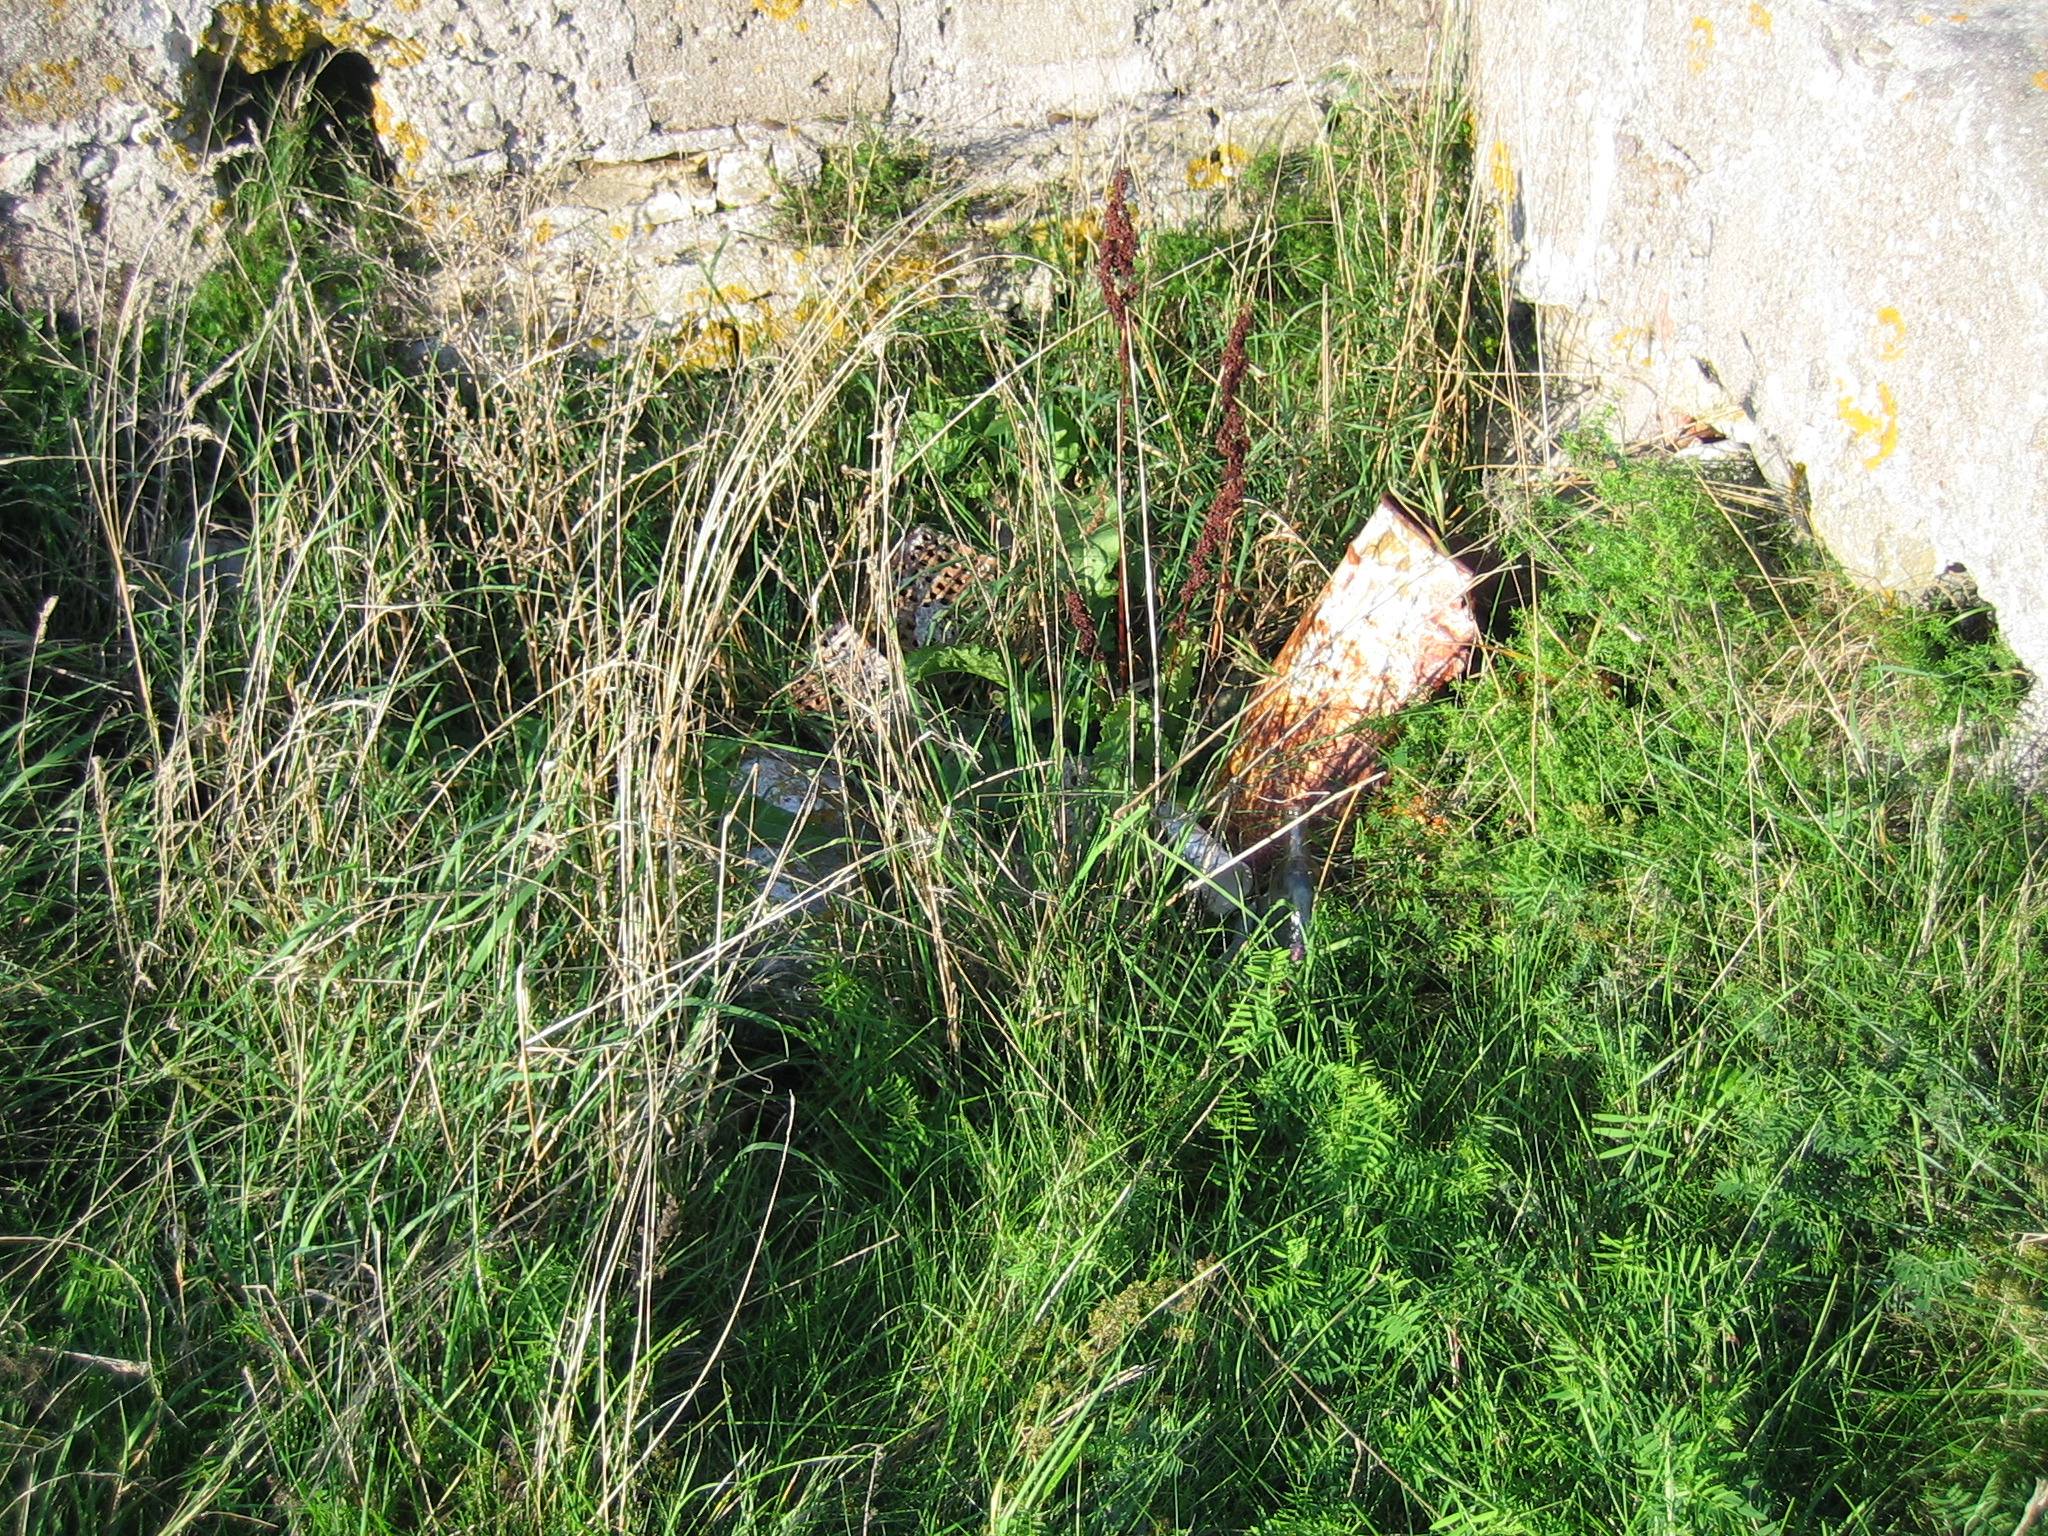trash: (797, 402, 1600, 979)
